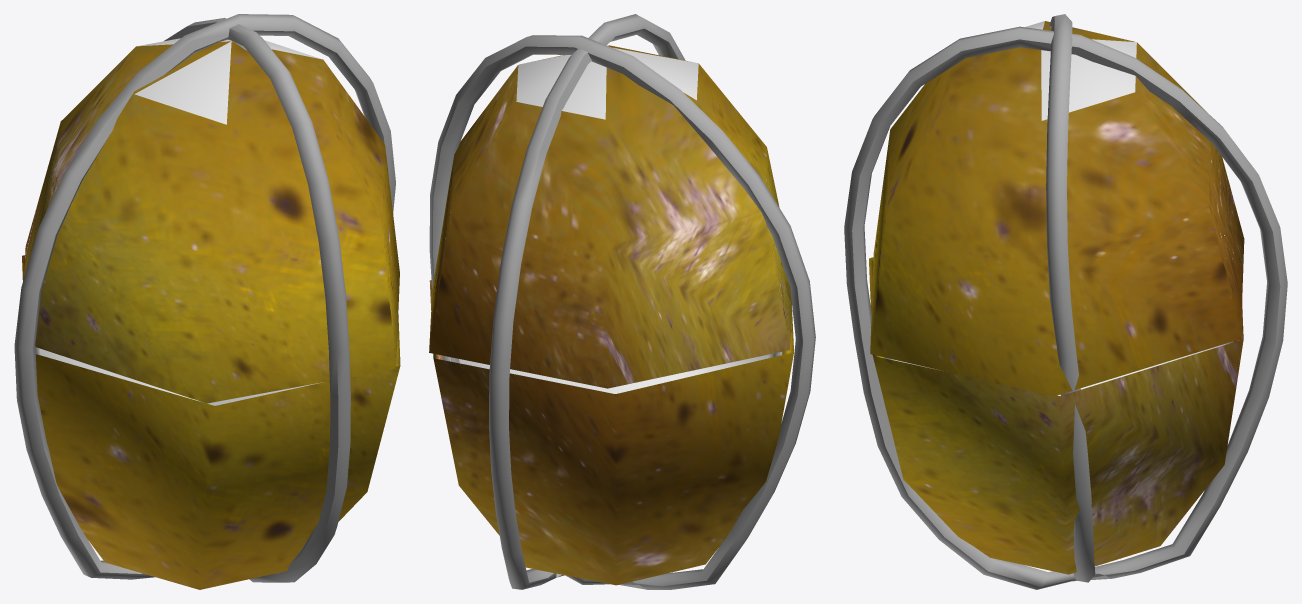
File: ContainerM.fbx
3 views of the same model, side by side, from view 1: azimuth 30°, elevation 25°; view 2: azimuth 150°, elevation 25°; view 3: azimuth 270°, elevation 25° (orthographic). The views are drawn at different scales.
Visible parts, largest first — view 1: pasted__polySurface85, sweep2, sweep1; view 2: pasted__polySurface85, sweep2, sweep1; view 3: pasted__polySurface85, sweep1, sweep2.
Part boxes in pixels (x1=…): pasted__polySurface85: x1=22, y1=38, x2=400, y2=589; sweep2: x1=14, y1=14, x2=395, y2=579; sweep1: x1=164, y1=18, x2=350, y2=582; pasted__polySurface85: x1=429, y1=45, x2=793, y2=585; sweep2: x1=429, y1=35, x2=815, y2=589; sweep1: x1=489, y1=14, x2=685, y2=589; pasted__polySurface85: x1=869, y1=21, x2=1244, y2=574; sweep1: x1=844, y1=26, x2=1287, y2=589; sweep2: x1=1046, y1=14, x2=1095, y2=582.
Size of the model in its own units: 17.15 by 23.48 by 17.06.
